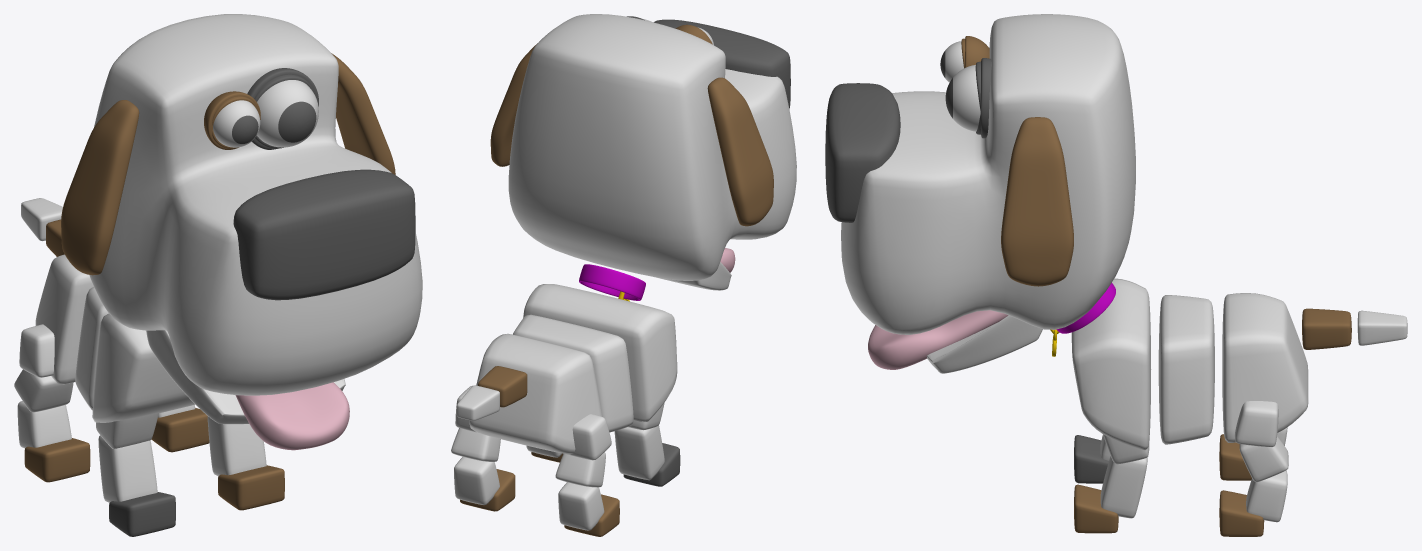
The model's file is Dog.fbx.
3 renders of one model, left to right at view 1: azimuth 30°, elevation 25°; view 2: azimuth 150°, elevation 25°; view 3: azimuth 270°, elevation 25°, orthographic. The views are drawn at different scales.
Visible parts, largest first — view 1: Msh_Head1, Msh_Nose1, Msh_Ear_L2, Msh_Chest1, Msh_Tongue, Msh_Hips1, Msh_Ear_L3, Msh_Eye_L, Msh_Forearm_L3, Mesh_Jaw1, Msh_Forearm_L2, Msh_Forefoot_L2 (+13 smaller); view 2: Msh_Head1, Msh_Hips1, Msh_Chest1, Msh_Ear_L2, Msh_Abdomen1, Msh_Nose1, Msh_Forearm_L3, Msh_Ear_L3, Msh_Hock_L3, Msh_Hock_L2, Msh_Collar1, Msh_UpperThigh_L3 (+8 smaller); view 3: Msh_Head1, Msh_Chest1, Msh_Ear_L3, Msh_Hips1, Msh_Abdomen1, Msh_Nose1, Msh_Tongue, Mesh_Jaw1, Msh_Forearm_L2, Msh_Tail2, Msh_UpperThigh_L2, Msh_Eye_L (+11 smaller).
Boxes of the visible parts, x1=… form: Msh_Head1: x1=89, y1=14, x2=422, y2=395; Msh_Nose1: x1=233, y1=169, x2=415, y2=300; Msh_Ear_L2: x1=61, y1=100, x2=139, y2=275; Msh_Chest1: x1=92, y1=313, x2=194, y2=422; Msh_Tongue: x1=235, y1=382, x2=349, y2=450; Msh_Hips1: x1=35, y1=254, x2=93, y2=384; Msh_Ear_L3: x1=331, y1=53, x2=395, y2=174; Msh_Eye_L: x1=257, y1=80, x2=318, y2=147; Msh_Forearm_L3: x1=98, y1=435, x2=157, y2=502; Mesh_Jaw1: x1=146, y1=330, x2=345, y2=424; Msh_Forearm_L2: x1=207, y1=416, x2=266, y2=476; Msh_Forefoot_L2: x1=218, y1=465, x2=284, y2=510; Msh_Head1: x1=508, y1=14, x2=796, y2=280; Msh_Hips1: x1=469, y1=333, x2=601, y2=454; Msh_Chest1: x1=523, y1=284, x2=677, y2=421; Msh_Ear_L2: x1=707, y1=77, x2=773, y2=226; Msh_Abdomen1: x1=513, y1=314, x2=633, y2=432; Msh_Nose1: x1=654, y1=19, x2=790, y2=108; Msh_Forearm_L3: x1=614, y1=425, x2=664, y2=480; Msh_Ear_L3: x1=490, y1=43, x2=537, y2=166; Msh_Hock_L3: x1=558, y1=482, x2=604, y2=530; Msh_Hock_L2: x1=454, y1=457, x2=499, y2=504; Msh_Collar1: x1=579, y1=264, x2=645, y2=300; Msh_UpperThigh_L3: x1=566, y1=414, x2=611, y2=460; Msh_Head1: x1=841, y1=14, x2=1135, y2=334; Msh_Chest1: x1=1071, y1=278, x2=1151, y2=449; Msh_Ear_L3: x1=1001, y1=117, x2=1073, y2=286; Msh_Hips1: x1=1222, y1=293, x2=1308, y2=442; Msh_Abdomen1: x1=1158, y1=295, x2=1214, y2=444; Msh_Nose1: x1=825, y1=83, x2=900, y2=222; Msh_Tongue: x1=868, y1=310, x2=1008, y2=369; Mesh_Jaw1: x1=927, y1=315, x2=1042, y2=373; Msh_Forearm_L2: x1=1100, y1=456, x2=1147, y2=518; Msh_Tail2: x1=1302, y1=308, x2=1351, y2=349; Msh_UpperThigh_L2: x1=1234, y1=401, x2=1278, y2=446; Msh_Eye_L: x1=945, y1=65, x2=980, y2=131.
Size of the model in its own units: 52.04 by 79.59 by 91.14.
